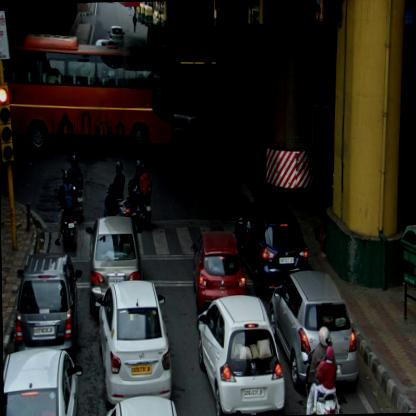bus: (0, 28, 176, 152)
car: (266, 268, 359, 394), (194, 292, 284, 416), (95, 279, 171, 405), (234, 200, 308, 296), (12, 252, 83, 352), (2, 345, 84, 415), (84, 216, 143, 312), (190, 231, 246, 312), (171, 91, 208, 139), (107, 25, 125, 45)
motorcycle: (301, 326, 341, 414), (52, 170, 77, 249), (126, 157, 152, 231), (101, 160, 129, 217), (65, 155, 83, 222)
